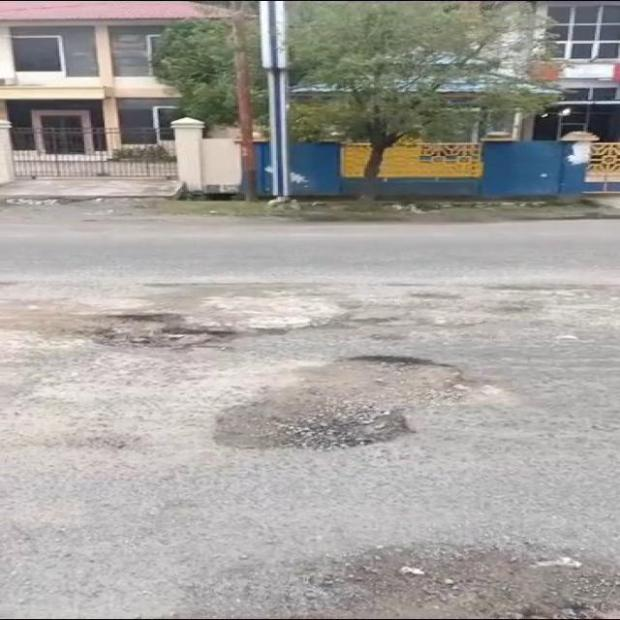lubang: (214, 356, 466, 449), (79, 299, 244, 350)
